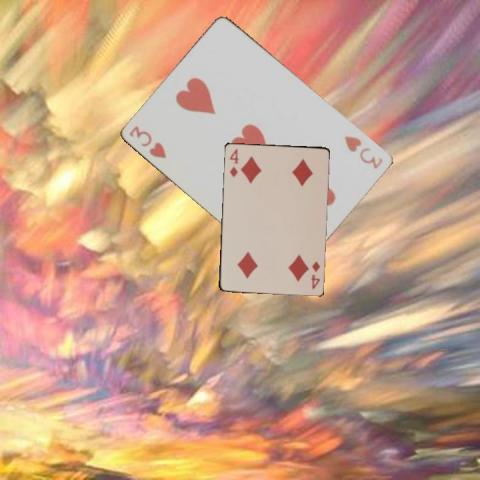3h: (341, 133, 385, 170), (126, 123, 168, 160)
4d: (227, 146, 240, 179), (308, 258, 321, 290)
